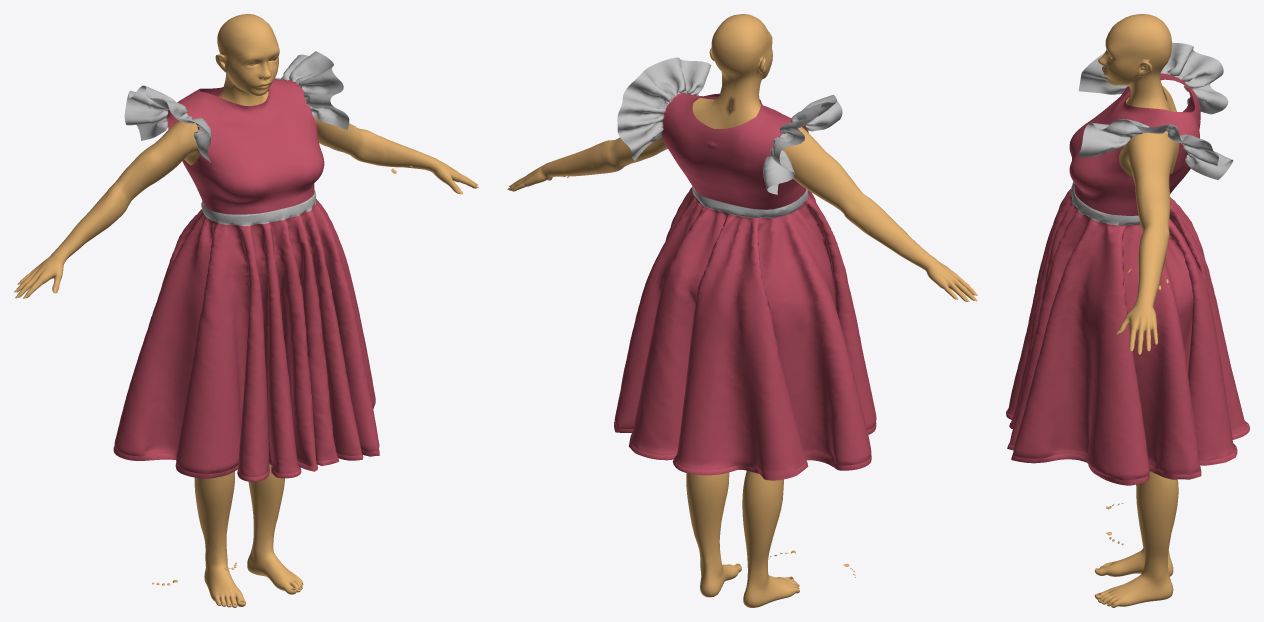
Rendered from dress4.glb.
3 renders of one model, left to right at view 1: azimuth 30°, elevation 25°; view 2: azimuth 150°, elevation 25°; view 3: azimuth 270°, elevation 25°, orthographic.
Visible parts, largest first — view 1: PinkDrees#14 (OBJ), Body.003; view 2: PinkDrees#14 (OBJ), Body.003; view 3: PinkDrees#14 (OBJ), Body.003.
Part boxes in pixels (x1,y1,x2,y2): PinkDrees#14 (OBJ): (113, 51, 379, 481); Body.003: (16, 14, 478, 607); PinkDrees#14 (OBJ): (614, 57, 876, 480); Body.003: (508, 14, 974, 607); PinkDrees#14 (OBJ): (1006, 42, 1249, 485); Body.003: (1094, 14, 1179, 607).
Size of the model in its own units: 1.58 by 1.85 by 0.7155.
